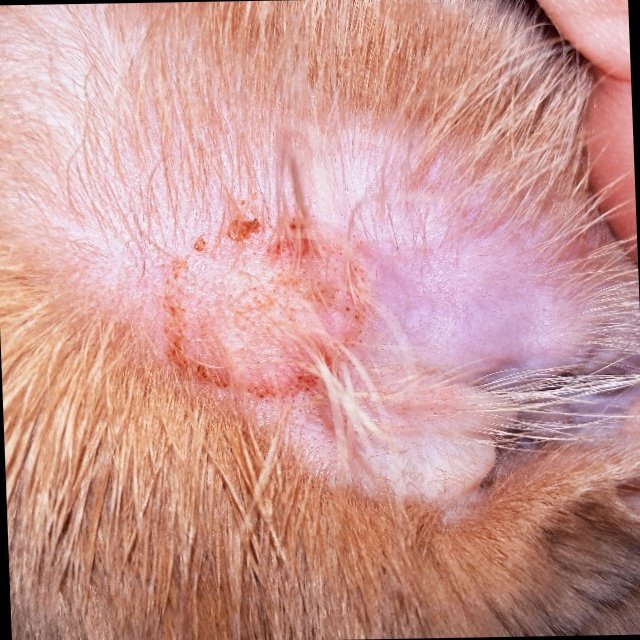ringworm: (156, 222, 383, 401)
